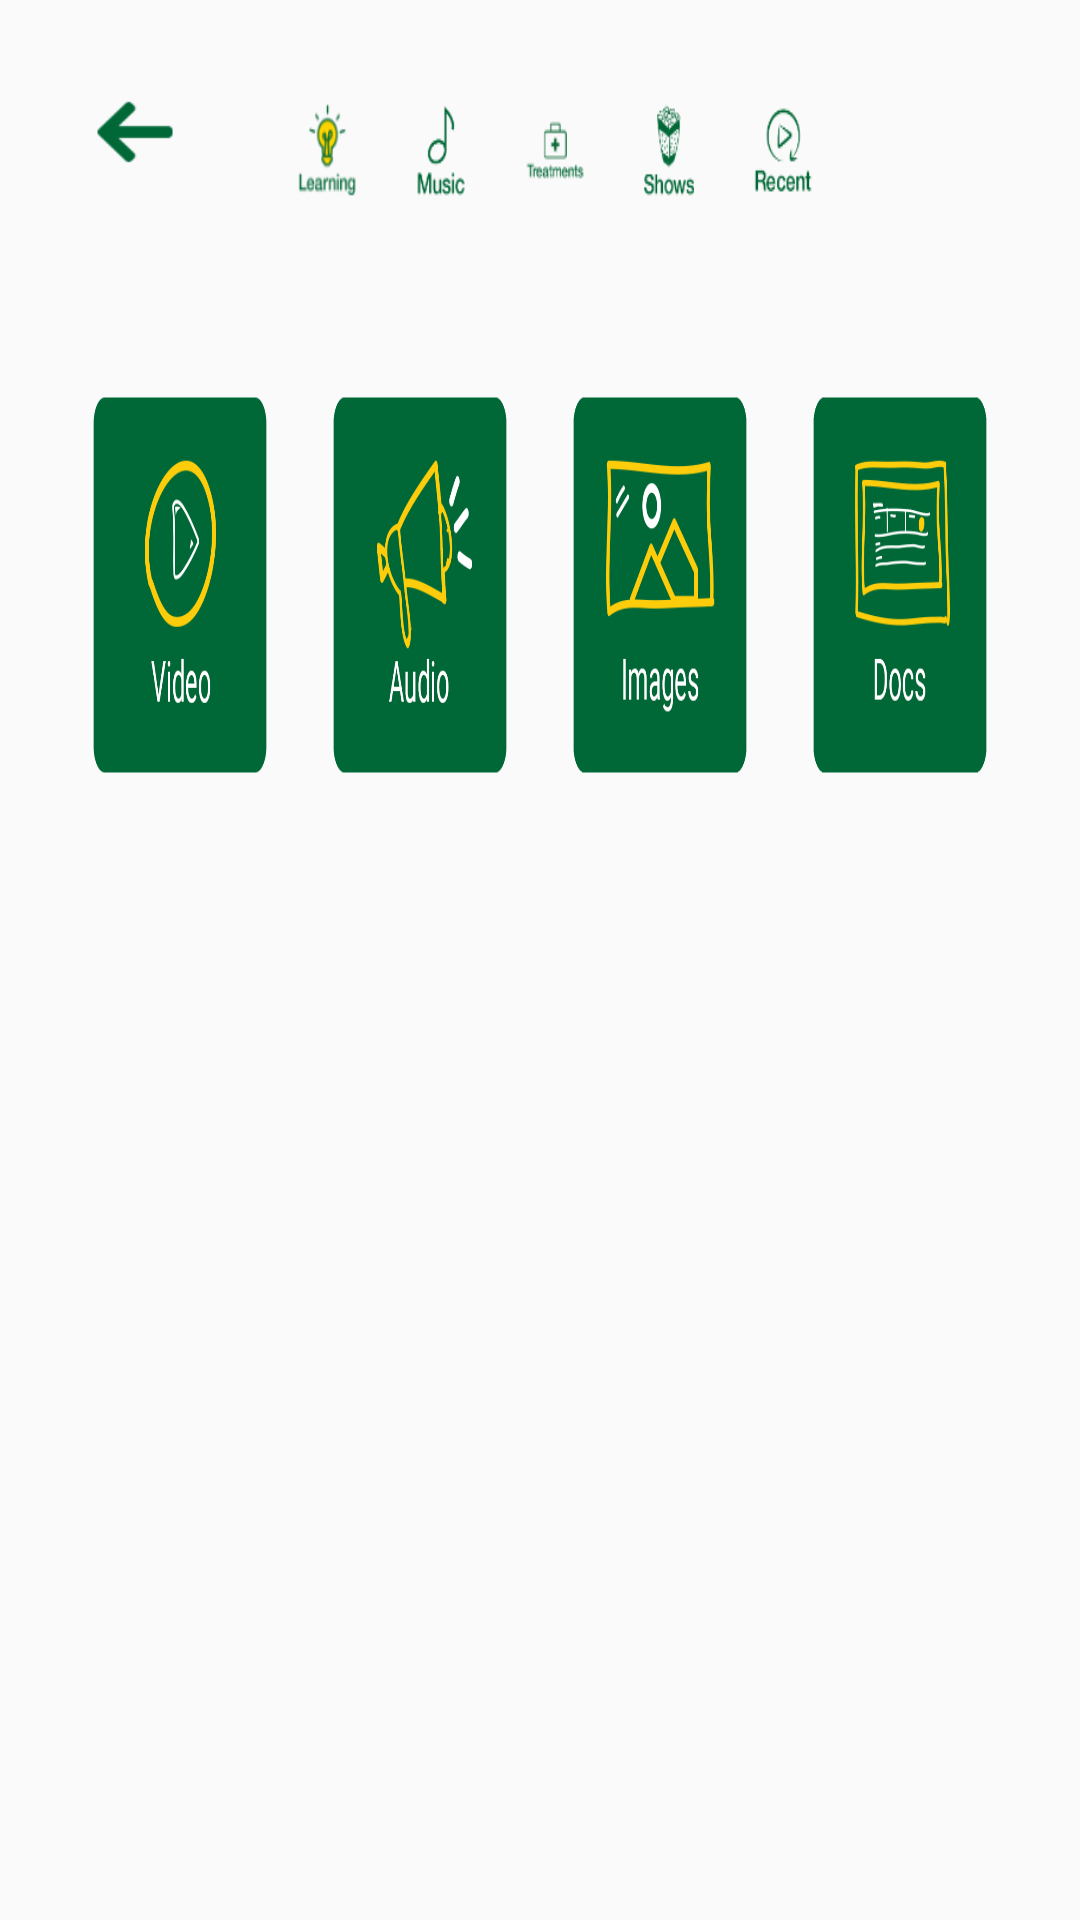

Where icons sit on this 1080x1920 app screen, as (x1, y1, x2, y2):
back: (97, 101, 173, 163)
